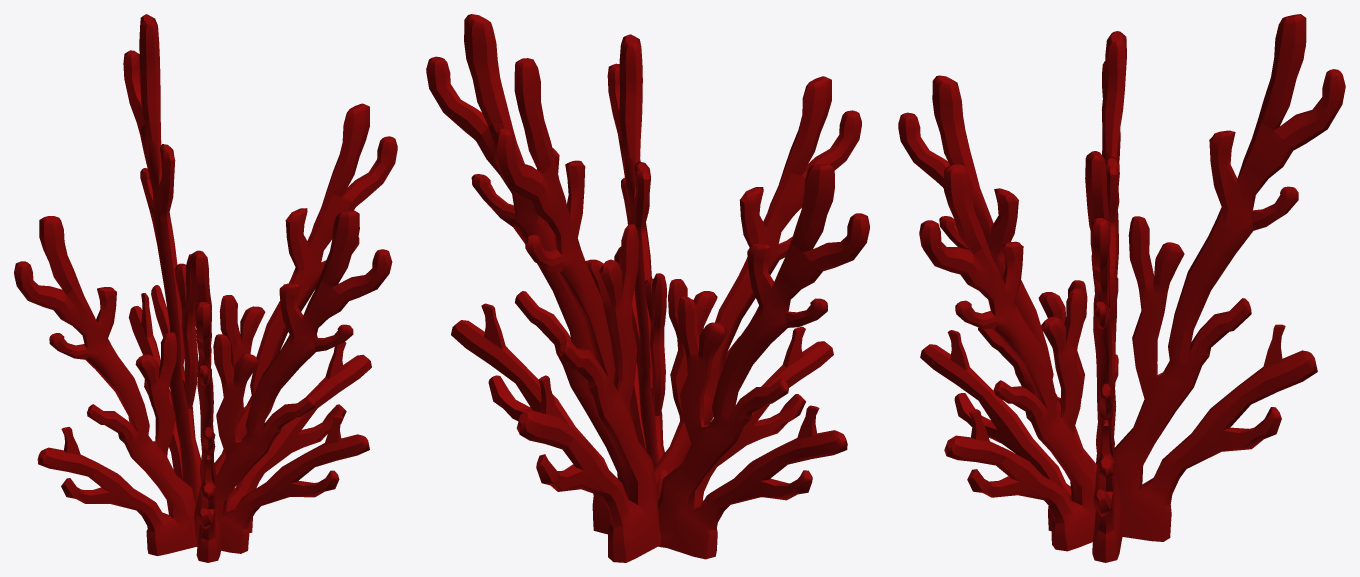
Rendered from coral2.fbx.
3 views of the same model, side by side, from view 1: azimuth 30°, elevation 25°; view 2: azimuth 150°, elevation 25°; view 3: azimuth 270°, elevation 25° (orthographic). The views are drawn at different scales.
Parts seen in each view (by area): view 1: pCylinder23; view 2: pCylinder23; view 3: pCylinder23.
Part boxes in pixels (x1,y1,x2,y2): pCylinder23: (14,14,397,562); pCylinder23: (426,14,869,562); pCylinder23: (898,14,1345,562).
Size of the model in its own units: 15.96 by 18.48 by 13.97.
